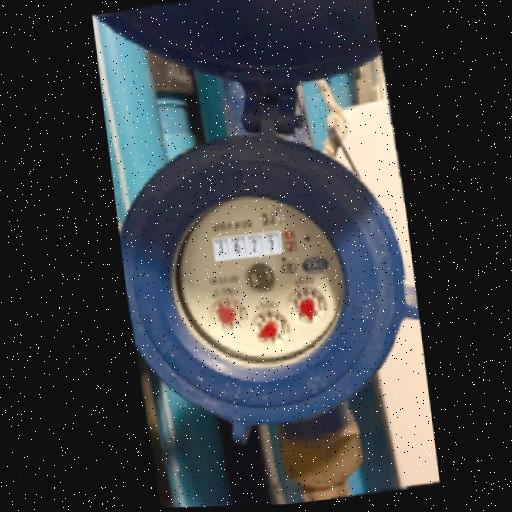3: (214, 240, 229, 260)
6: (283, 230, 297, 253), (230, 237, 246, 256)
7: (247, 235, 263, 254), (264, 233, 280, 252)
border_water_meter_number: (211, 228, 299, 263)
